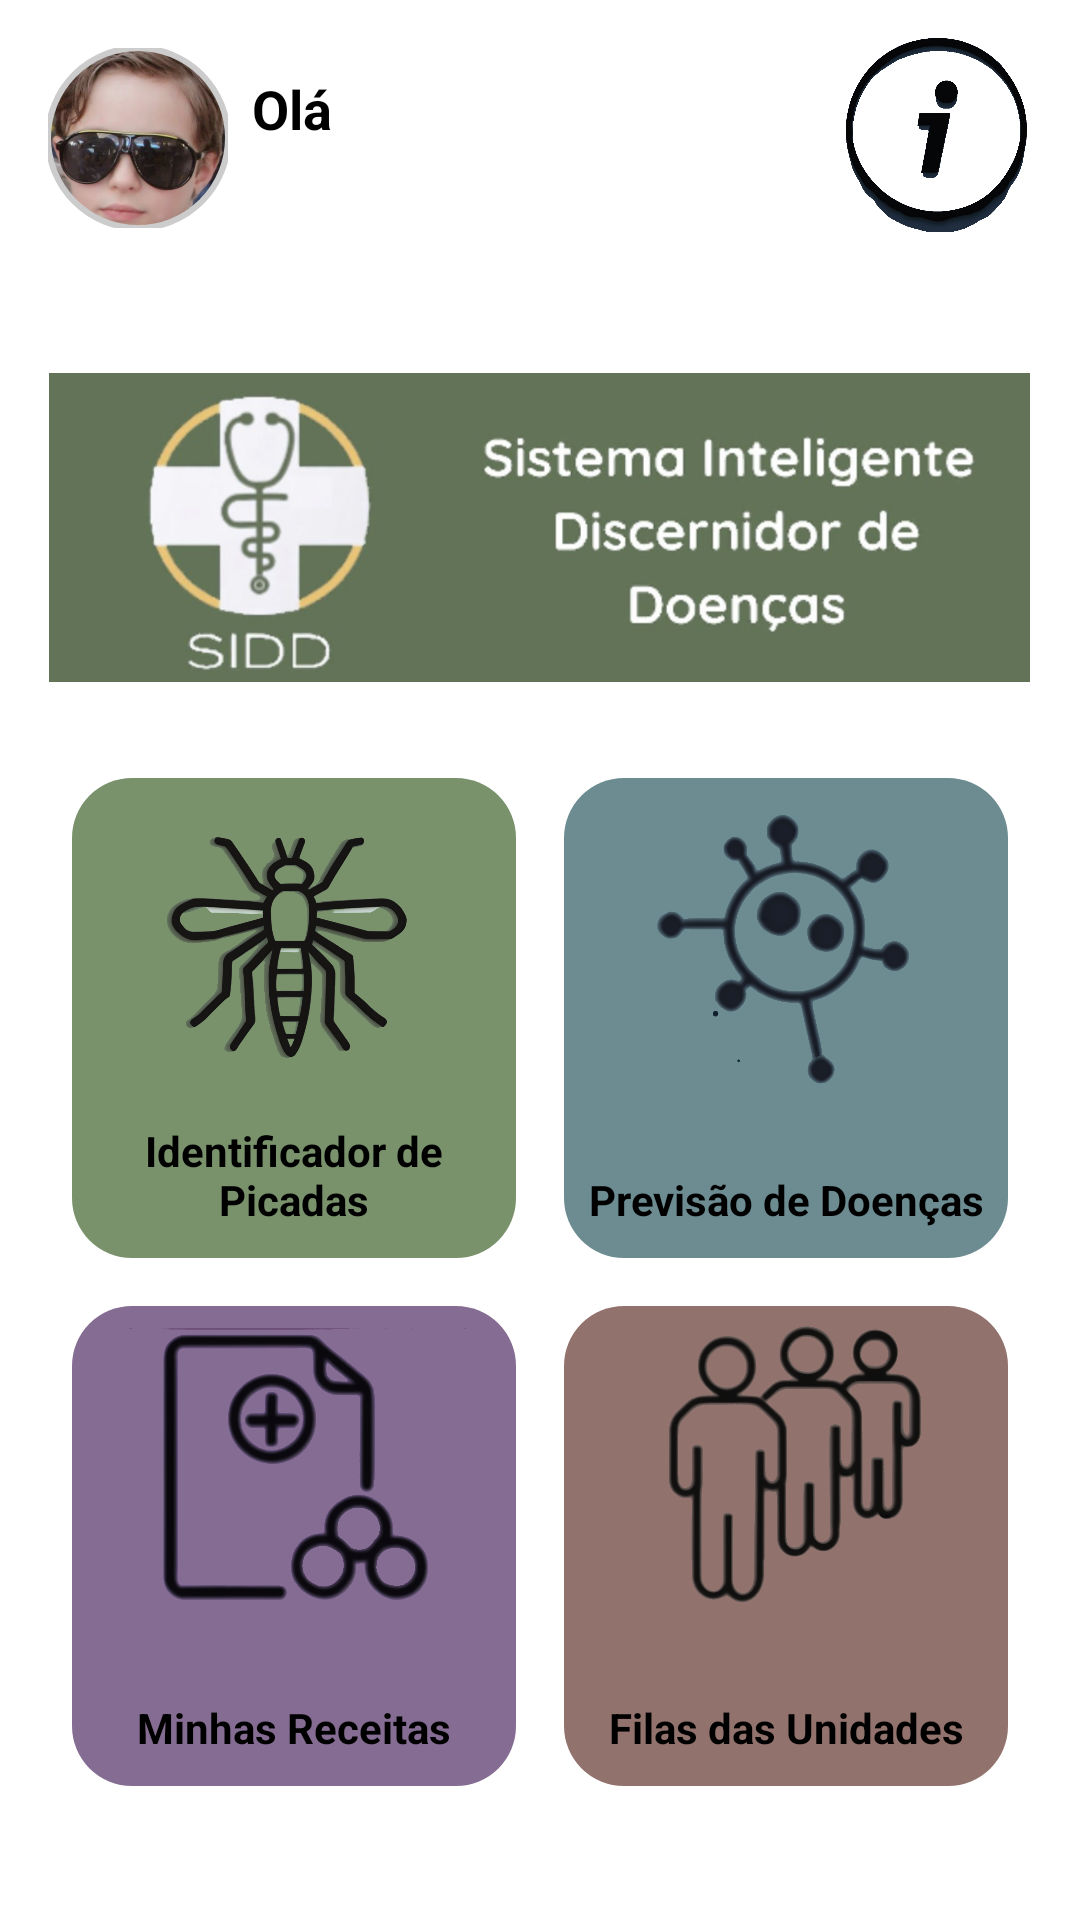

Icons on this 1080*1920 Android screen, each with the point to tap as [x,y]:
profile: [138,138]
